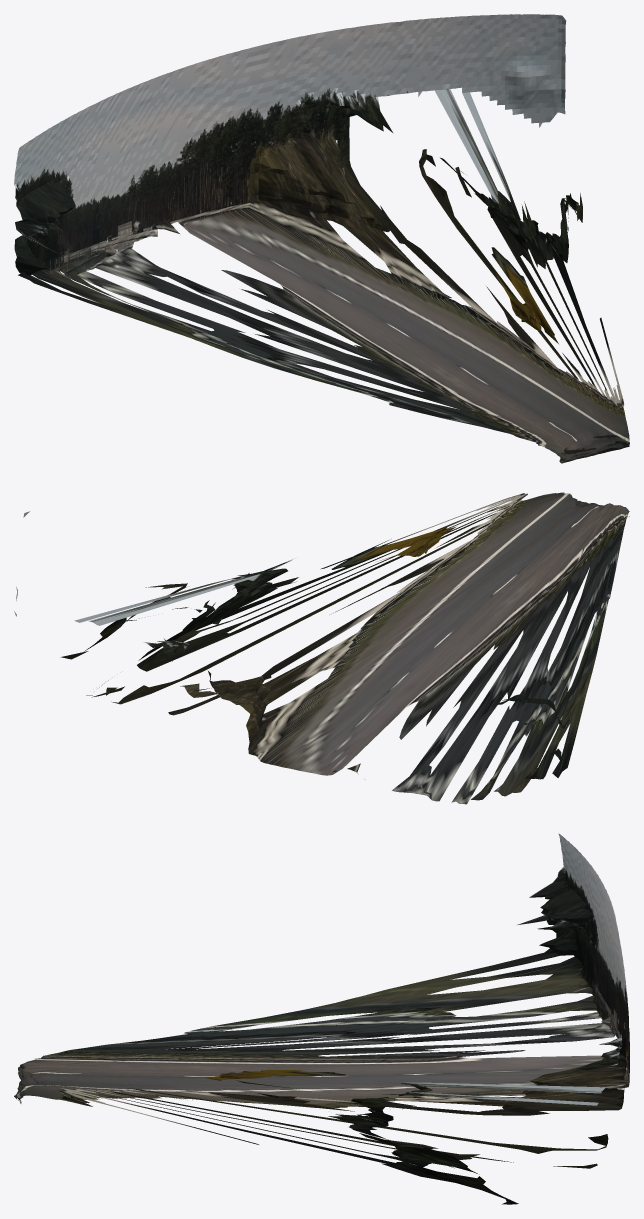
3 renders of one model, top to bottom at view 1: azimuth 30°, elevation 25°; view 2: azimuth 150°, elevation 25°; view 3: azimuth 270°, elevation 25°, orthographic. The views are drawn at different scales.
Parts seen in each view (by area): view 1: defaultobject; view 2: defaultobject; view 3: defaultobject.
Boxes of the visible parts, left/top/right/bottom form: defaultobject: left=14, top=14, right=629, bottom=463; defaultobject: left=14, top=492, right=629, bottom=804; defaultobject: left=14, top=833, right=629, bottom=1204.
Bounding box in the file's own units: 40.95 × 12.5 × 44.38.
Materials: 1 (1 with a texture image).
